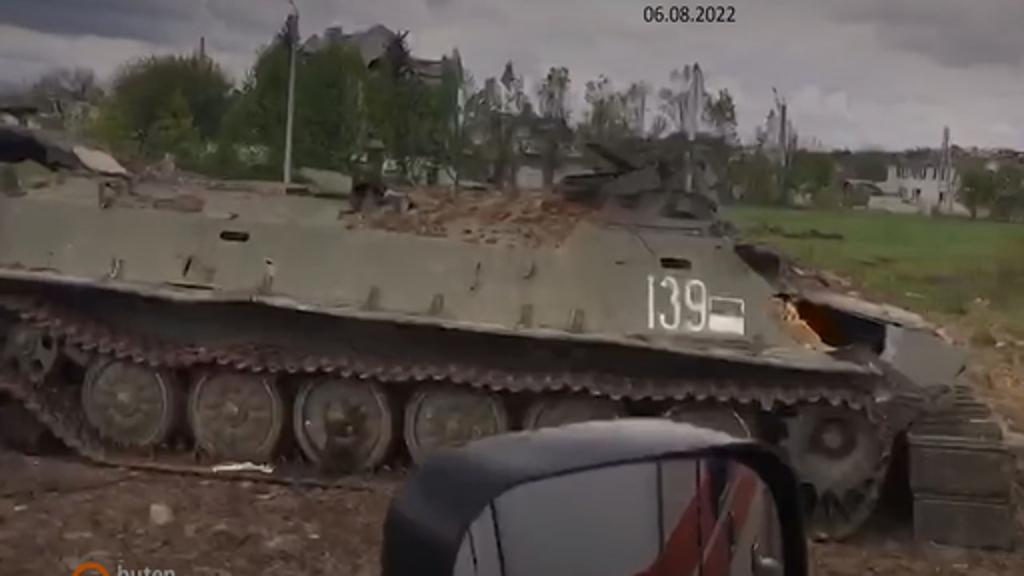APC-IFV: (0, 126, 956, 540)
